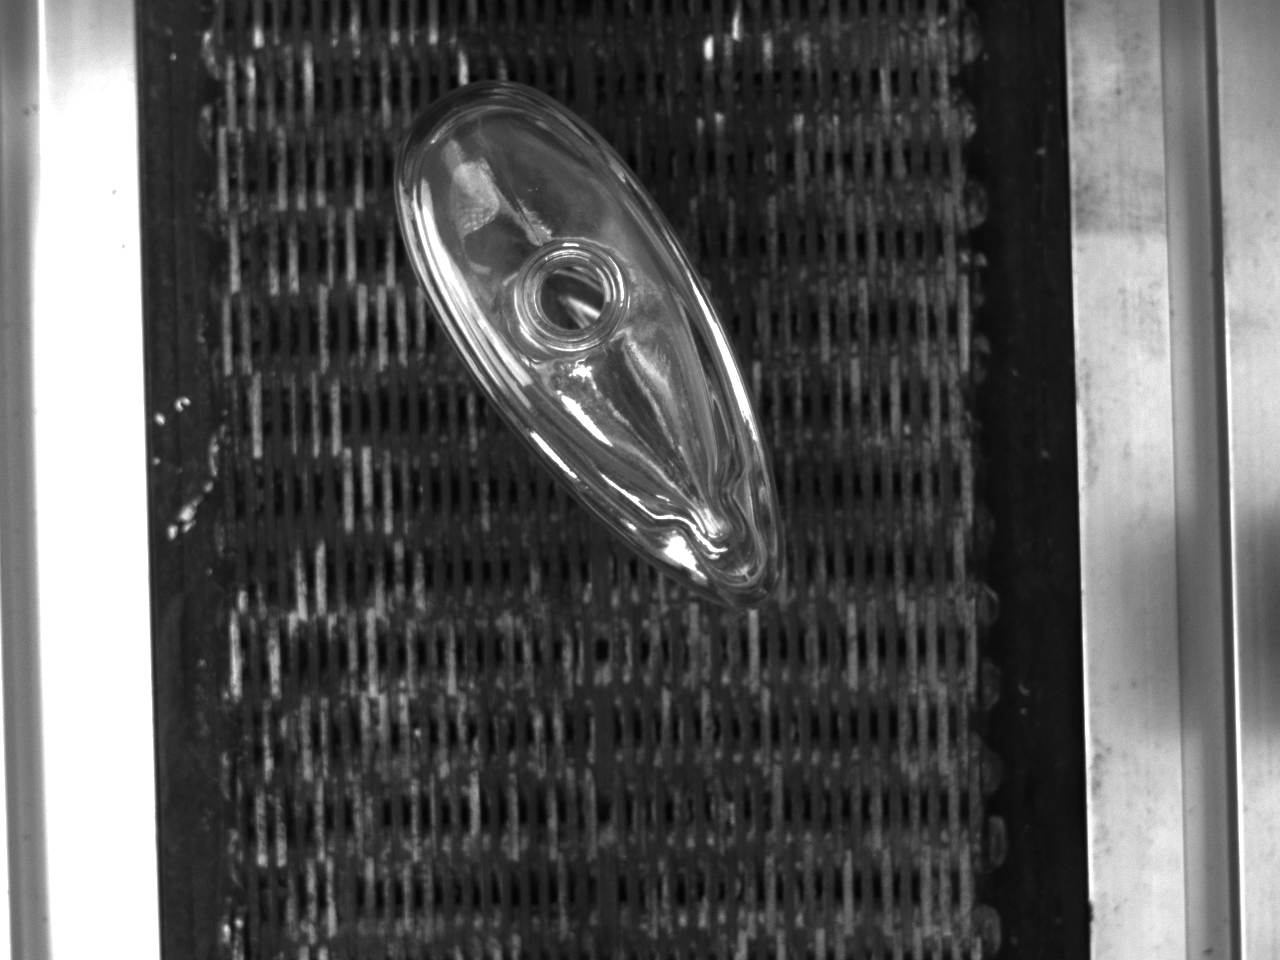bottleneck: (518, 241, 628, 353)
